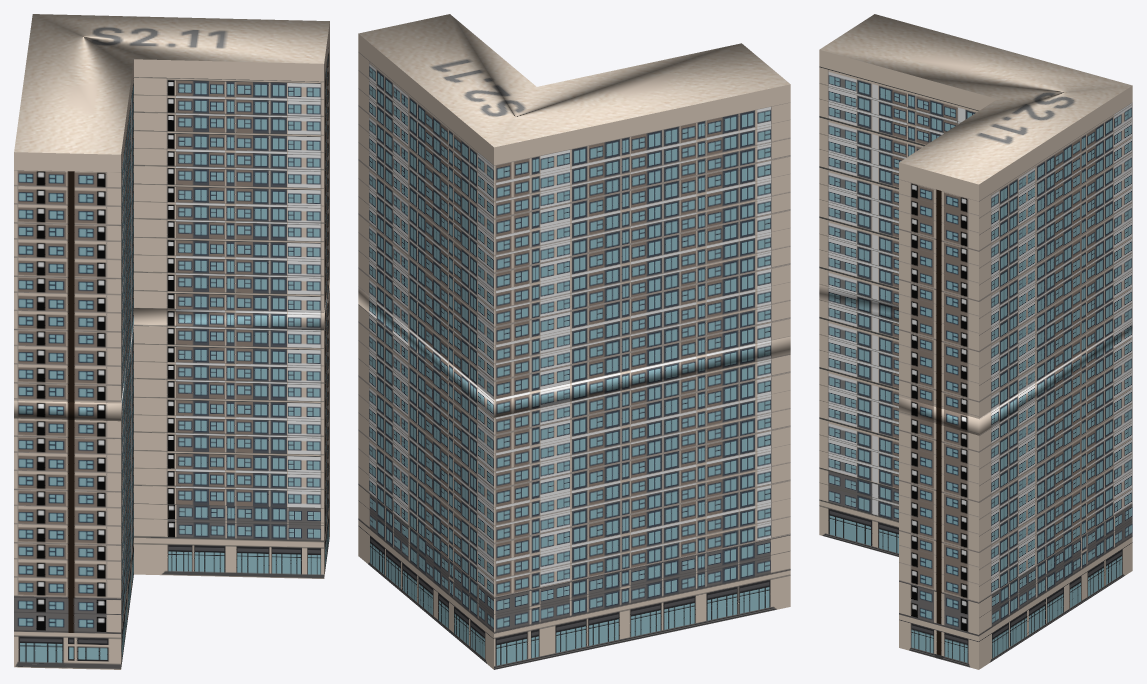
3 renders of one model, left to right at view 1: azimuth 30°, elevation 25°; view 2: azimuth 150°, elevation 25°; view 3: azimuth 270°, elevation 25°, orthographic. The views are drawn at different scales.
Visible parts, largest first — view 1: Asset3DLoader.sceneRoot; view 2: Asset3DLoader.sceneRoot; view 3: Asset3DLoader.sceneRoot.
Part boxes in pixels (x1,y1,x2,y2): Asset3DLoader.sceneRoot: [14, 14, 329, 669]; Asset3DLoader.sceneRoot: [358, 14, 790, 669]; Asset3DLoader.sceneRoot: [819, 14, 1132, 669].
Size of the model in its own units: 71.97 by 95.5 by 55.86.
1 material, 1 textured.
